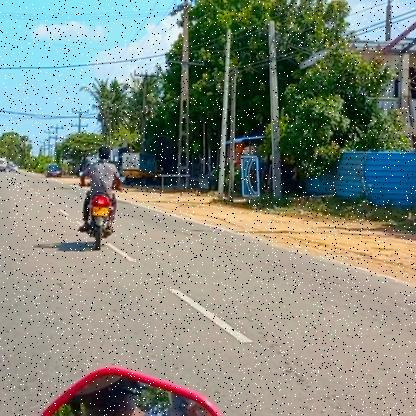motorcycle: (76, 191, 119, 252)
